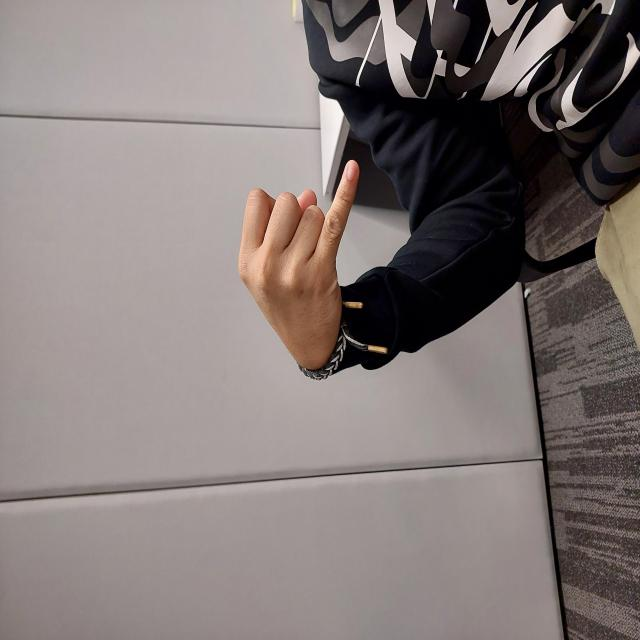J: (271, 236, 485, 360)
